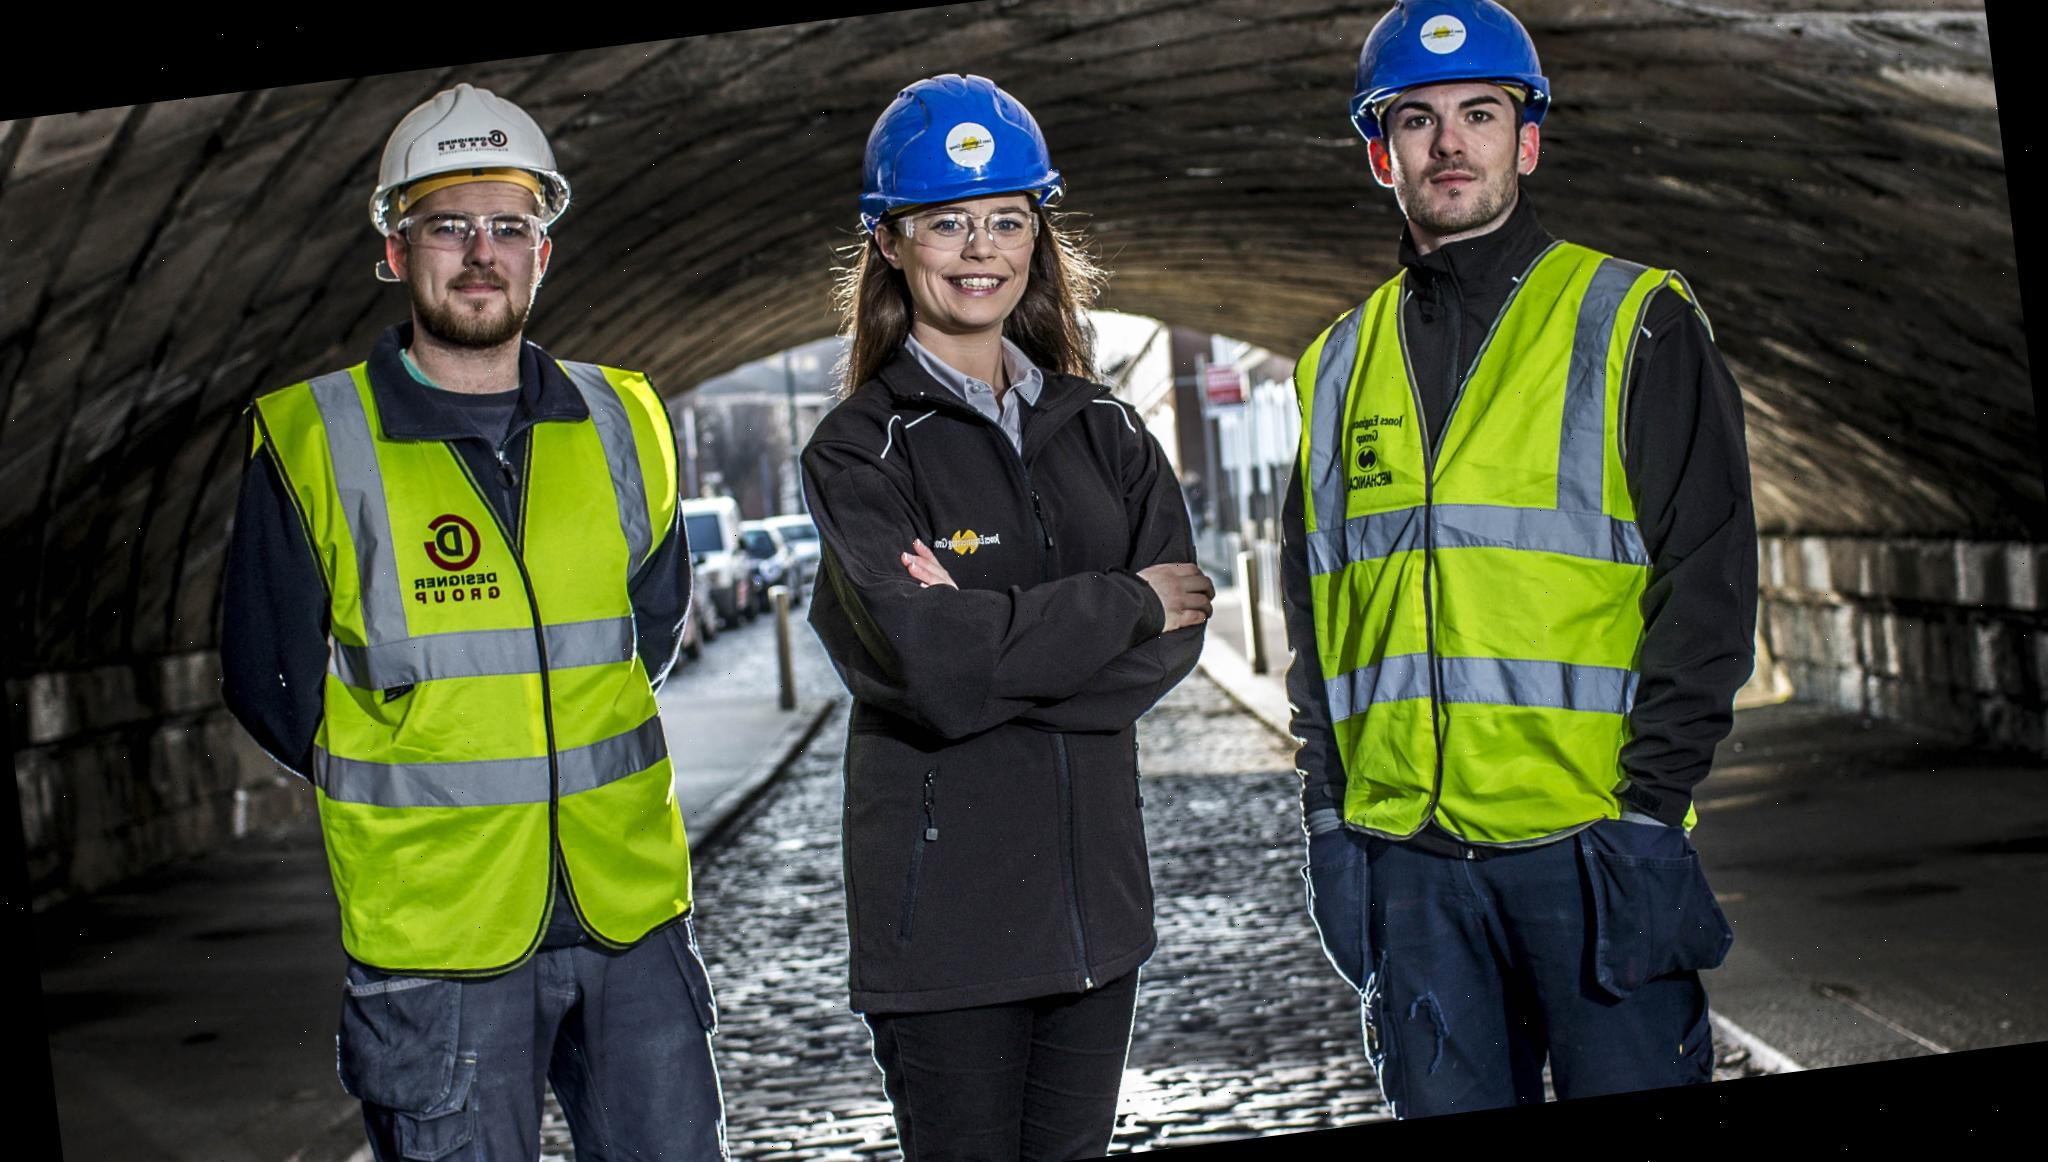helmet: (354, 73, 581, 236), (841, 62, 1063, 219), (1329, 0, 1566, 146)
no_wear: (772, 371, 1200, 1017)
wear: (1277, 245, 1762, 851), (267, 349, 730, 976)
